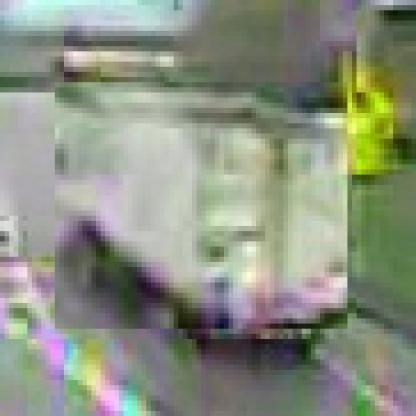container: (56, 83, 353, 335)
